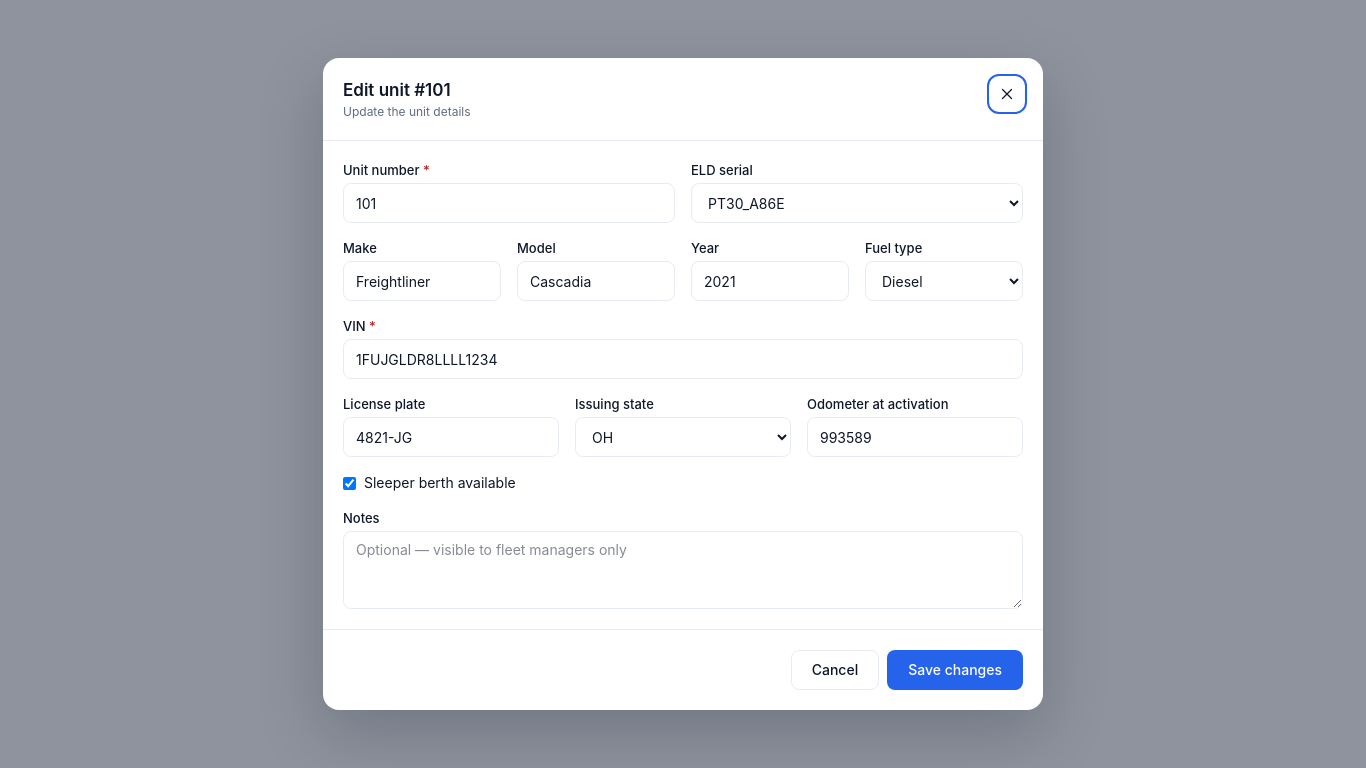
Test case: 11.2 Edit unit — duplicate values › an unattributed 409 keeps the generic toast and pins no field
The width and height of the screenshot is (1366, 768).
Replace the text in the field labelled "Unit number *" with "102": (509, 203) left=343, top=183, right=675, bottom=223
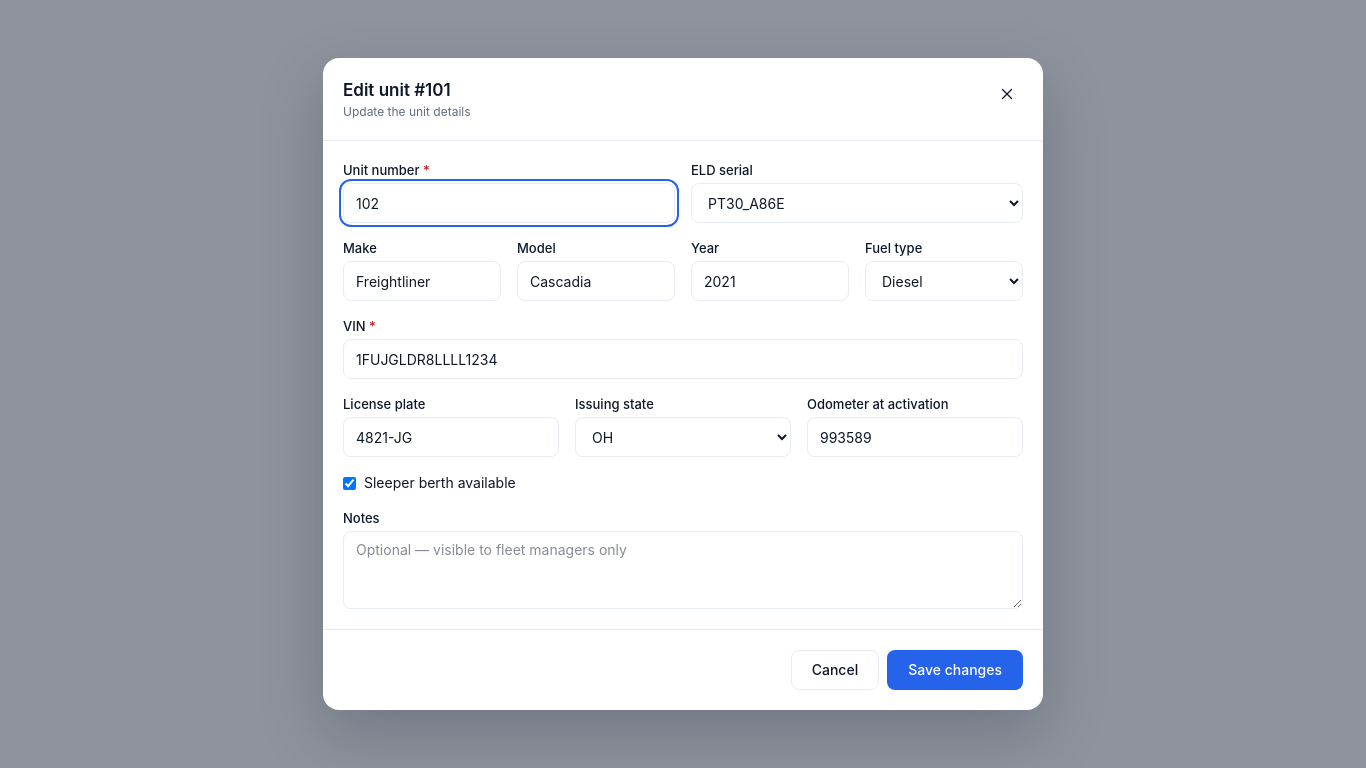
Click the button "Save changes": click(955, 670) left=887, top=650, right=1023, bottom=690
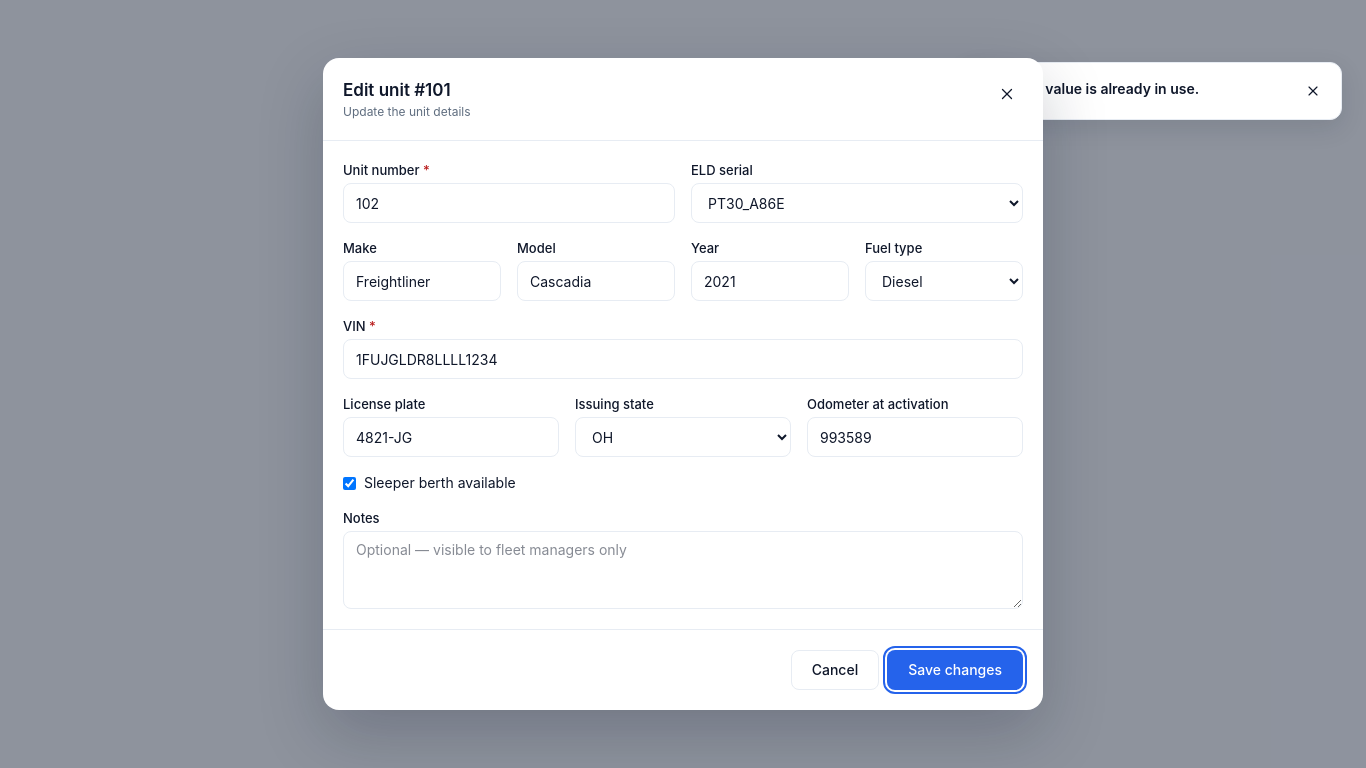
Check: the text "That value is already in use." is shown, box left=1011, top=80, right=1199, bottom=97
